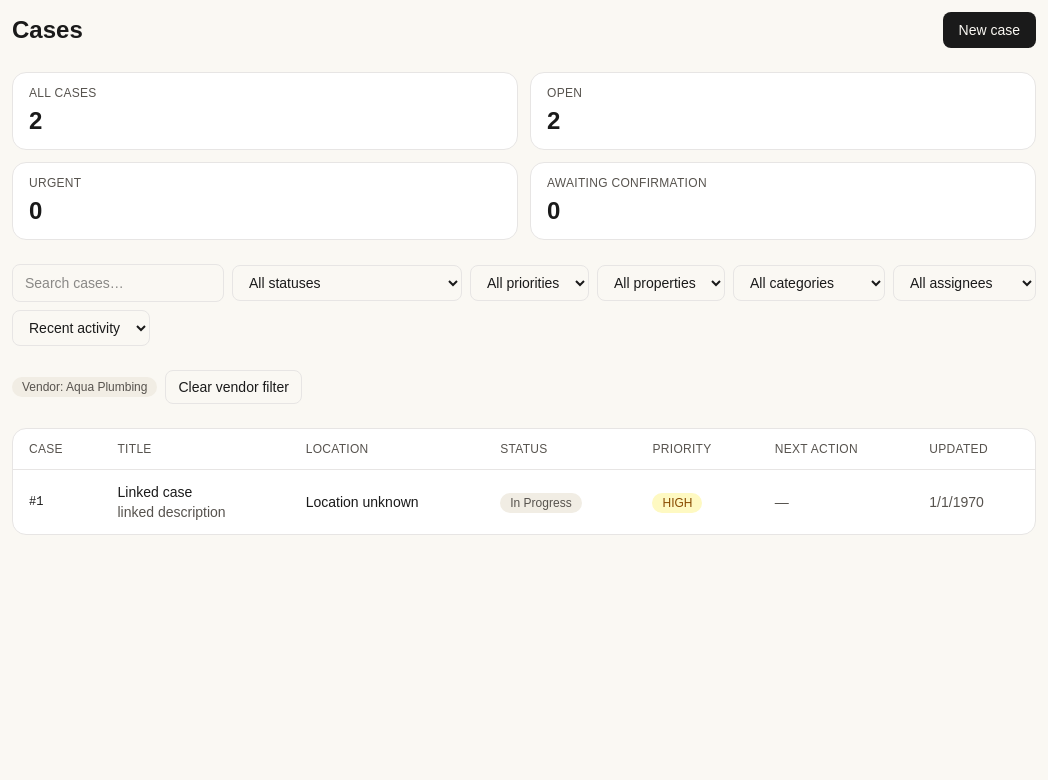
CasesPage vendor filter › clearing the vendor filter restores all cases
Expected: the text "Other case" is not shown
Click the button "Clear vendor filter" at (234, 387), box [165,370,302,404]
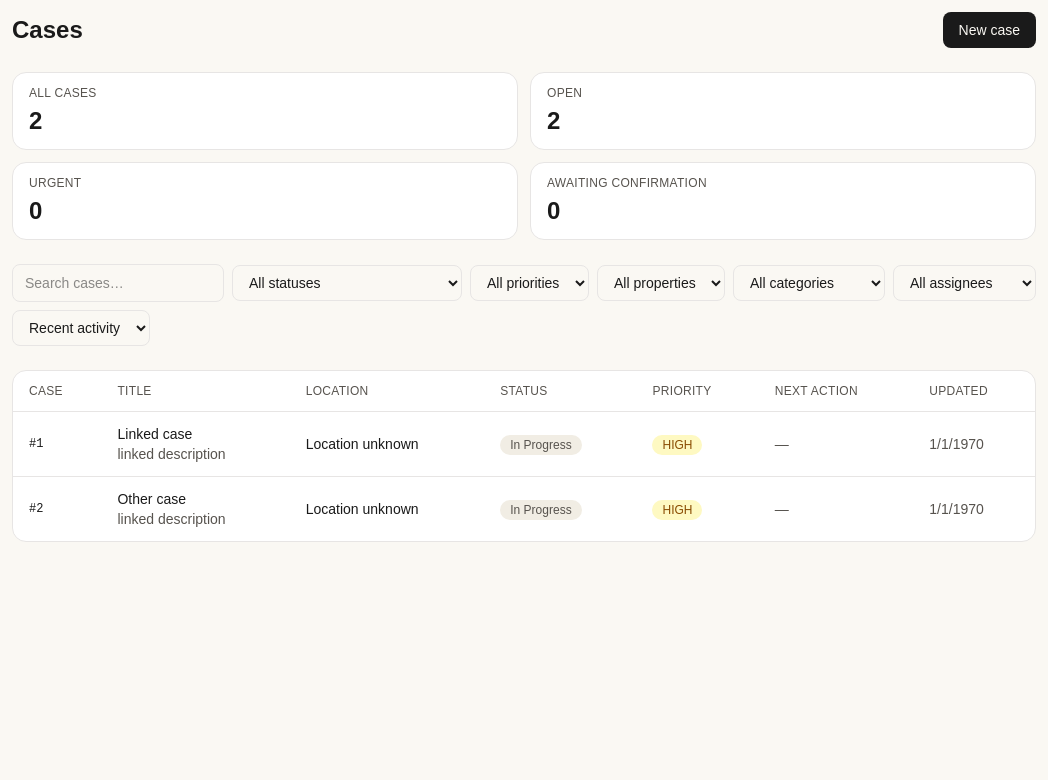
Expected: the text "Other case" is shown, [118,491,186,507]
Expected: the text "Vendor:" is gone
